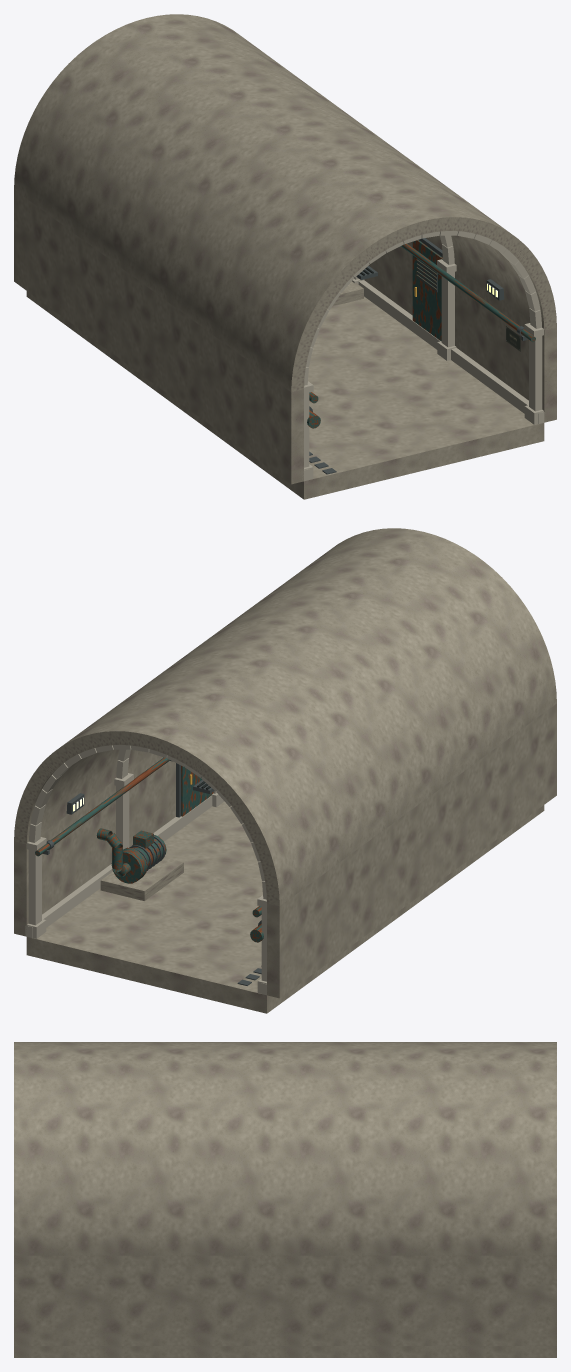
Rendered from 03_Concrete_Maintenance_Tunnel.glb.
The picture shows the model from 3 angles, top to bottom: view 1: azimuth 30°, elevation 25°; view 2: azimuth 150°, elevation 25°; view 3: azimuth 270°, elevation 25°; orthographic projection. The views are drawn at different scales.
Visible parts, largest first — view 1: ROOF_Vault.001, Floor_Dry, Walls_Left.001, Walls_Right.001, Trim_Stone_Arch_Ribs.002, Trim_Wall_Footing.002, Service_Door_Leaf, Pipes_Return.001; view 2: ROOF_Vault.001, Floor_Dry, Walls_Left.001, Walls_Right.001, Trim_Stone_Arch_Ribs.002, Trim_Wall_Footing.002, Pump_Plinth, Pipes_Return.001, Service_Door_Leaf, Pump_Volute, Pump_Discharge; view 3: ROOF_Vault.001, Walls_Right.001, Floor_Dry.
Part boxes in pixels (box(x1,y1,x2,y2)): ROOF_Vault.001: box(14, 14, 556, 392); Floor_Dry: box(26, 291, 544, 499); Walls_Left.001: box(14, 189, 303, 484); Walls_Right.001: box(364, 241, 556, 422); Trim_Stone_Arch_Ribs.002: box(304, 231, 543, 479); Trim_Wall_Footing.002: box(303, 280, 544, 481); Service_Door_Leaf: box(412, 240, 442, 341); Pipes_Return.001: box(401, 243, 535, 342); ROOF_Vault.001: box(14, 528, 556, 906); Floor_Dry: box(26, 801, 544, 1013); Walls_Left.001: box(267, 703, 556, 998); Walls_Right.001: box(14, 753, 175, 936); Trim_Stone_Arch_Ribs.002: box(27, 745, 266, 993); Trim_Wall_Footing.002: box(25, 795, 266, 995); Pump_Plinth: box(100, 857, 183, 900); Pipes_Return.001: box(35, 757, 169, 856); Service_Door_Leaf: box(181, 765, 213, 816); Pump_Volute: box(111, 847, 147, 883); Pump_Discharge: box(96, 828, 130, 876); ROOF_Vault.001: box(14, 1042, 556, 1255); Walls_Right.001: box(14, 1255, 556, 1345); Floor_Dry: box(14, 1346, 556, 1357).
Size of the model in its own units: 6.64 by 5.96 by 12.
Materials: 13 (3 with a texture image).
